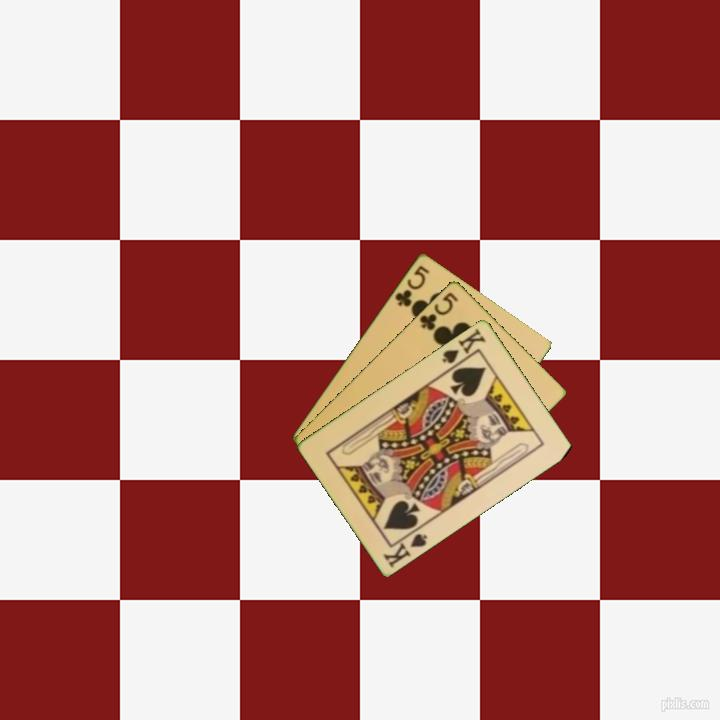5c: (416, 288, 461, 333), (391, 261, 432, 310)
Ks: (379, 523, 430, 571), (439, 325, 489, 372)
